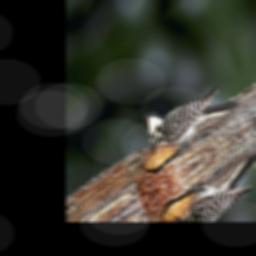Woodpecker: (137, 57, 243, 174)
